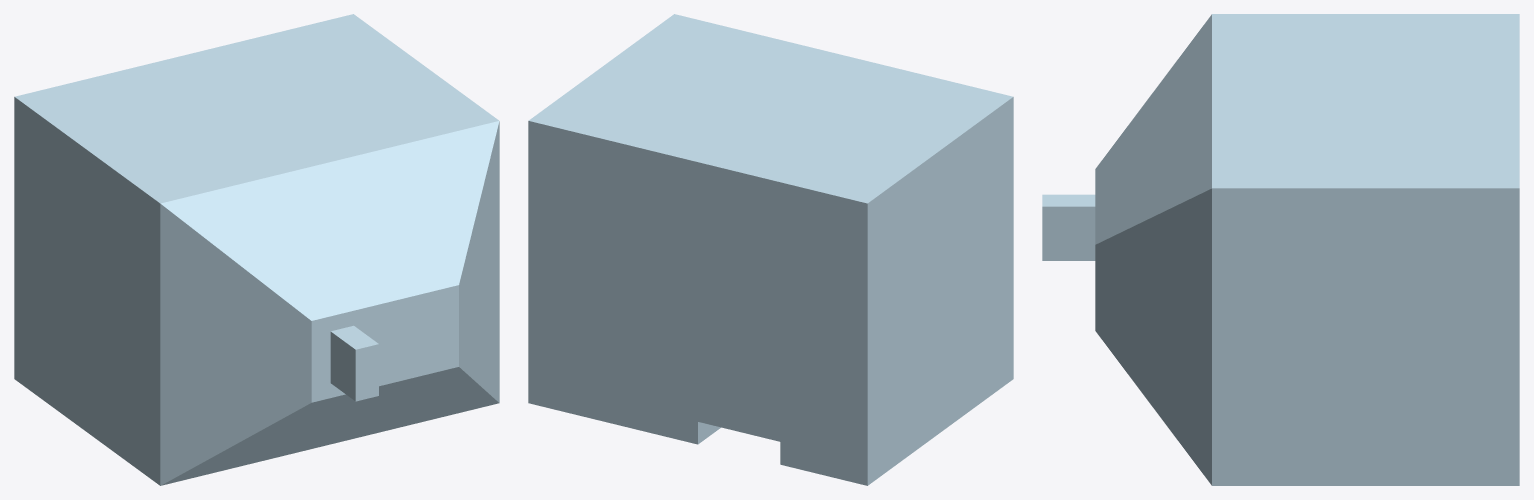
Rendered from dixon_house.gltf.
3 views of the same model, side by side, from view 1: azimuth 30°, elevation 25°; view 2: azimuth 150°, elevation 25°; view 3: azimuth 270°, elevation 25° (orthographic). The views are drawn at different scales.
Visible parts, largest first — view 1: Part 1; view 2: Part 1; view 3: Part 1.
Part boxes in pixels (box(x1,y1,x2,y2)): Part 1: box(14, 14, 499, 485); Part 1: box(528, 14, 1013, 485); Part 1: box(1042, 14, 1519, 485).
Bounding box in the file's own units: 0.0988 × 0.0786 × 0.1143.
